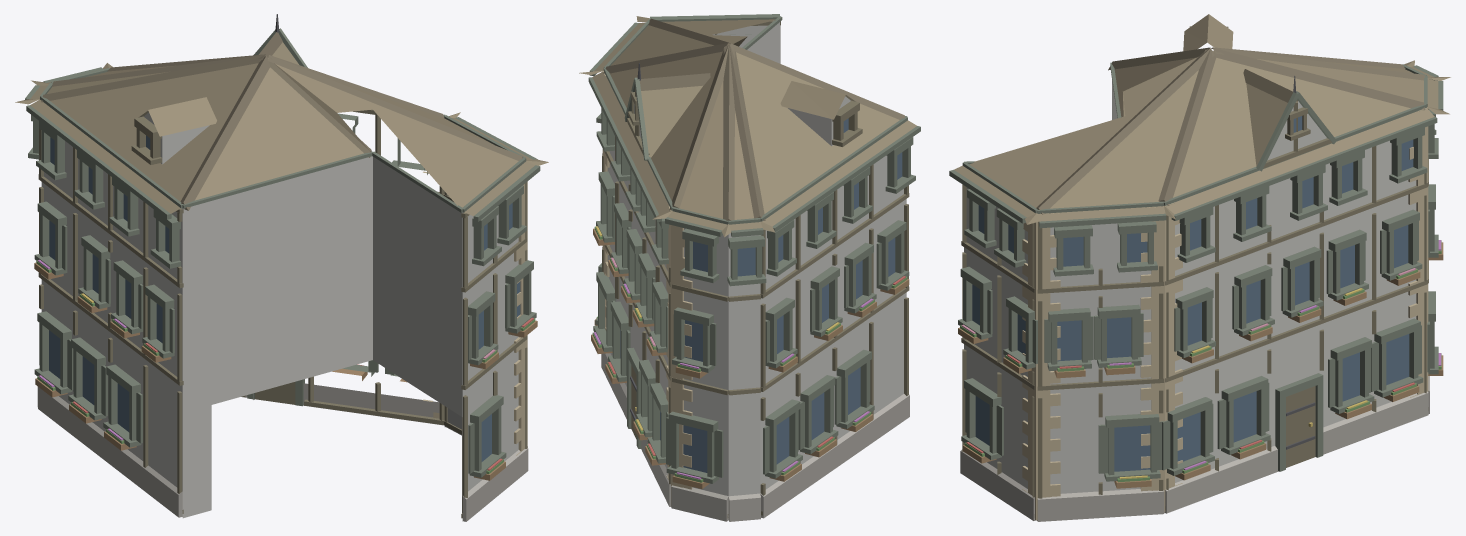
3 views of the same model, side by side, from view 1: azimuth 30°, elevation 25°; view 2: azimuth 150°, elevation 25°; view 3: azimuth 270°, elevation 25° (orthographic). The views are drawn at different scales.
Parts seen in each view (by area): view 1: B028_visible; view 2: B028_visible; view 3: B028_visible.
Boxes of the visible parts, x1,y1,x2,y2 form: B028_visible: [15, 14, 548, 521]; B028_visible: [579, 14, 920, 521]; B028_visible: [949, 14, 1450, 521].
Bounding box in the file's own units: 11.07 × 12.27 × 14.26.
